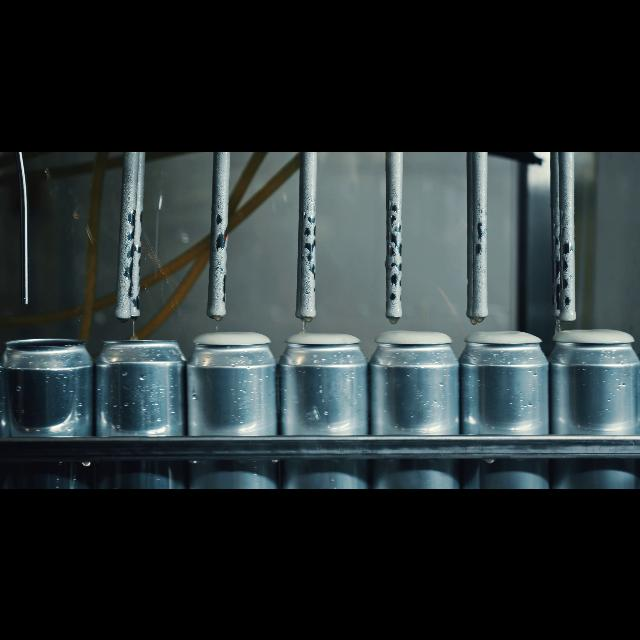empty: (94, 322, 184, 488), (6, 332, 90, 488)
full: (186, 318, 278, 488), (375, 322, 459, 488), (283, 320, 361, 488), (466, 322, 544, 488)
